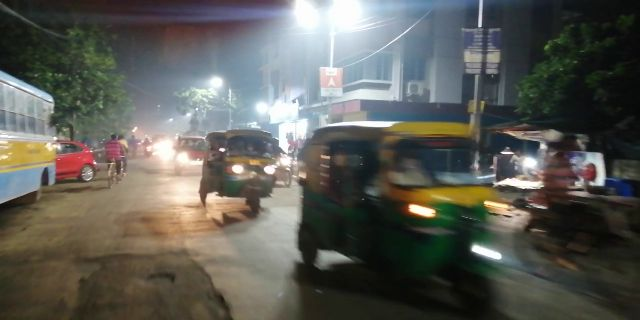Autorickshaw: (307, 120, 505, 307), (203, 124, 281, 217)
Bus: (1, 78, 59, 219)
Car: (53, 138, 98, 185), (175, 130, 203, 179)
